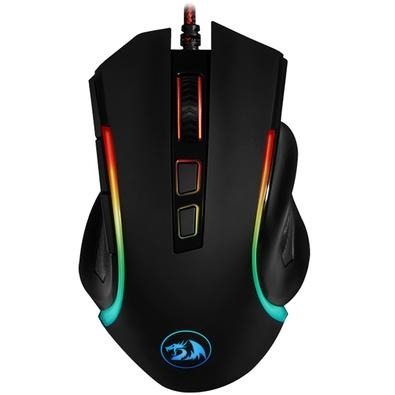mouse: (69, 19, 313, 392)
